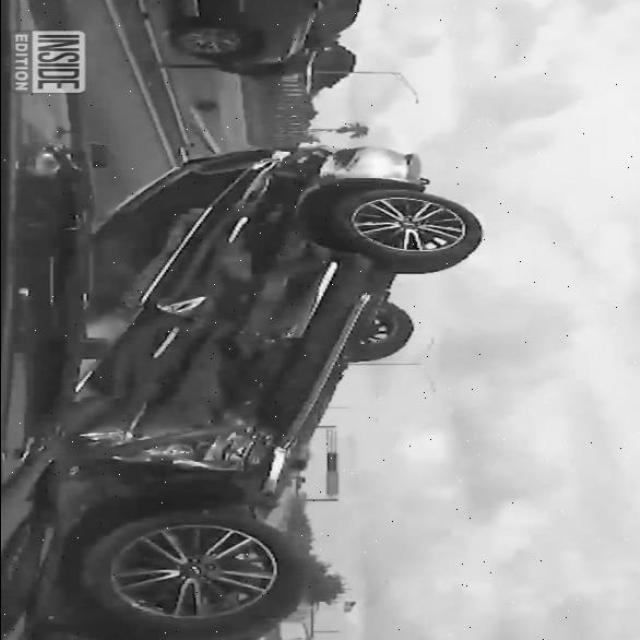accident: (37, 144, 478, 640)
non_accident: (162, 0, 366, 81)
